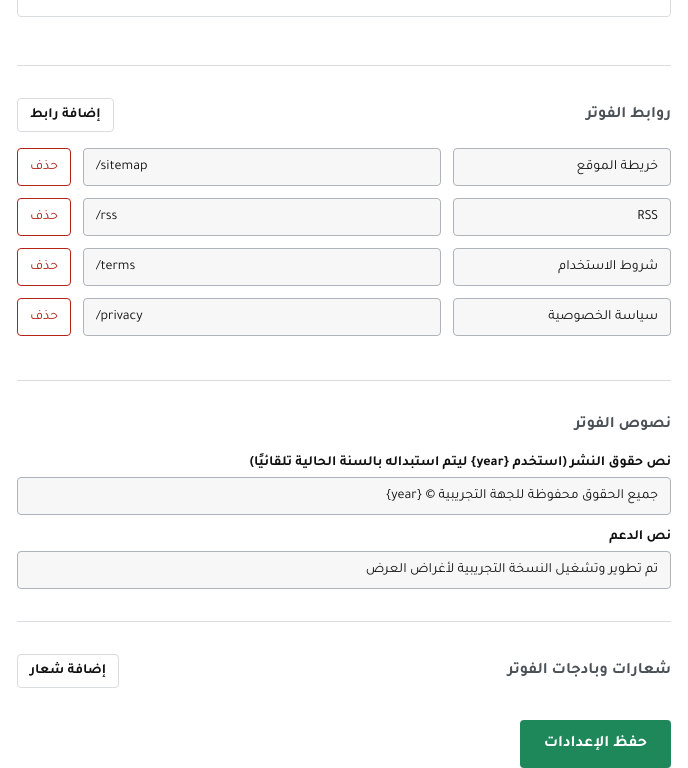
Test: SettingsPage › shows a success message after saving
(page scrolled)
Click the button "حفظ الإعدادات": x=595, y=744 [520,720,671,767]
(page scrolled)
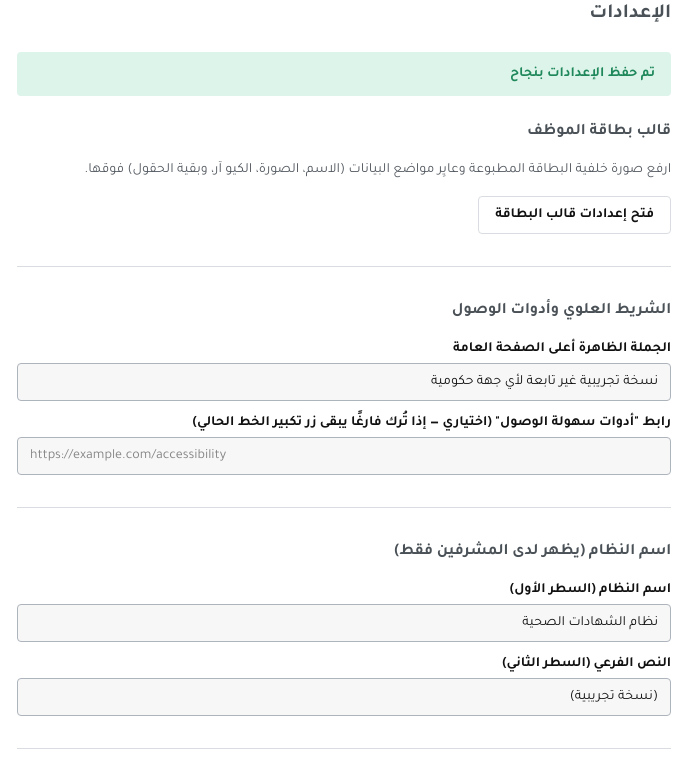
Expected: the text "تم حفظ الإعدادات بنجاح" is shown, [17,52,671,96]
